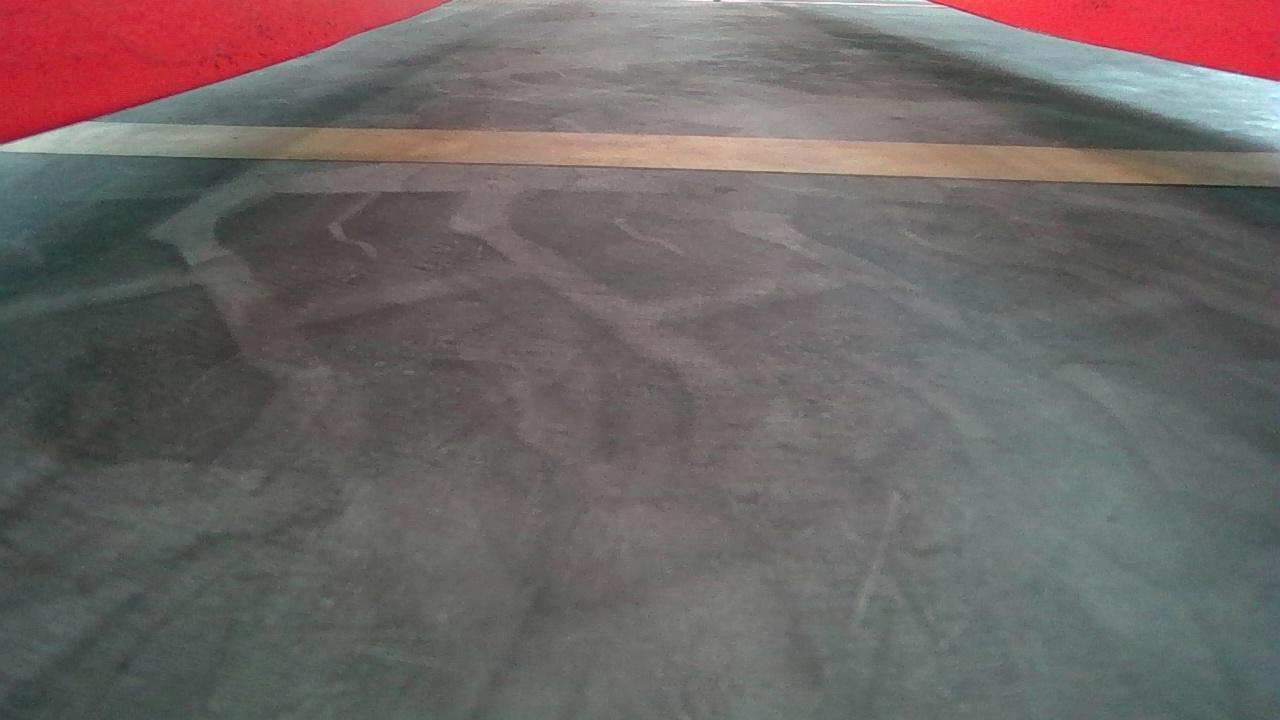yellow_line: (3, 118, 1280, 183)
